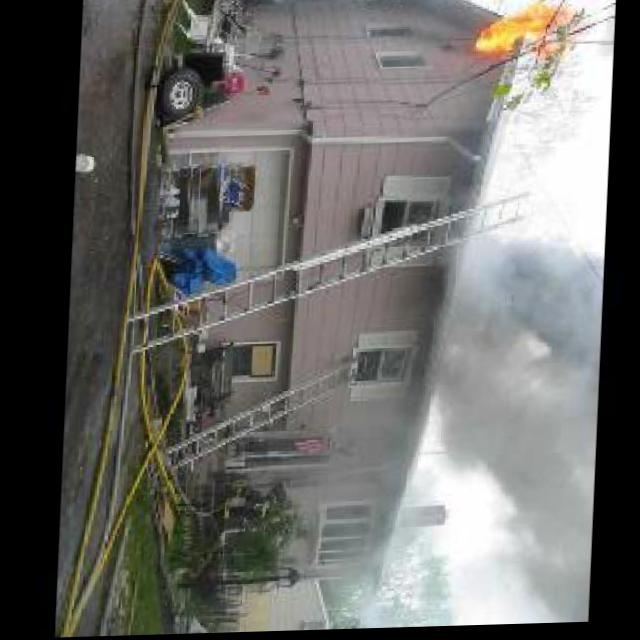Fire: (430, 237, 608, 629), (479, 7, 565, 65)
